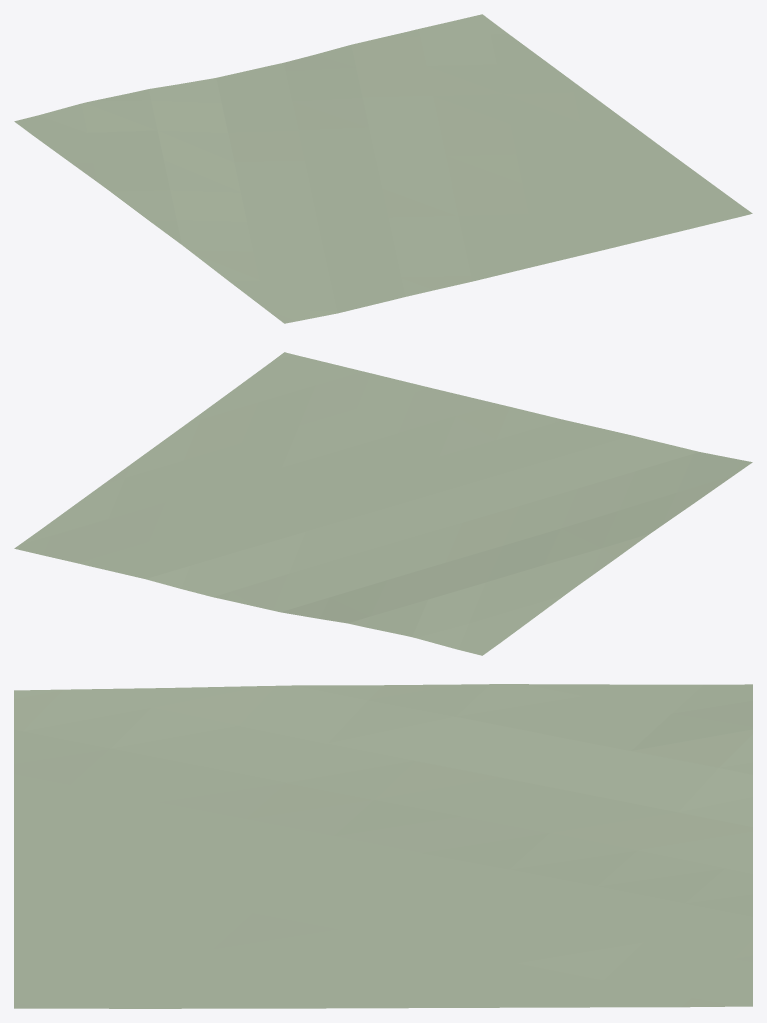
Rendered from SM_MPRR_Terrain_2_1.fbx.
3 renders of one model, top to bottom at view 1: azimuth 30°, elevation 25°; view 2: azimuth 150°, elevation 25°; view 3: azimuth 270°, elevation 25°, orthographic. The views are drawn at different scales.
Parts seen in each view (by area): view 1: SM_MPRR_Terrain_2_1; view 2: SM_MPRR_Terrain_2_1; view 3: SM_MPRR_Terrain_2_1.
Part boxes in pixels (bbox=[...]): SM_MPRR_Terrain_2_1: bbox=[14, 14, 752, 323]; SM_MPRR_Terrain_2_1: bbox=[14, 352, 752, 655]; SM_MPRR_Terrain_2_1: bbox=[14, 684, 752, 1008].
Bounding box in the file's own units: 15000 × 15000 × 315.
